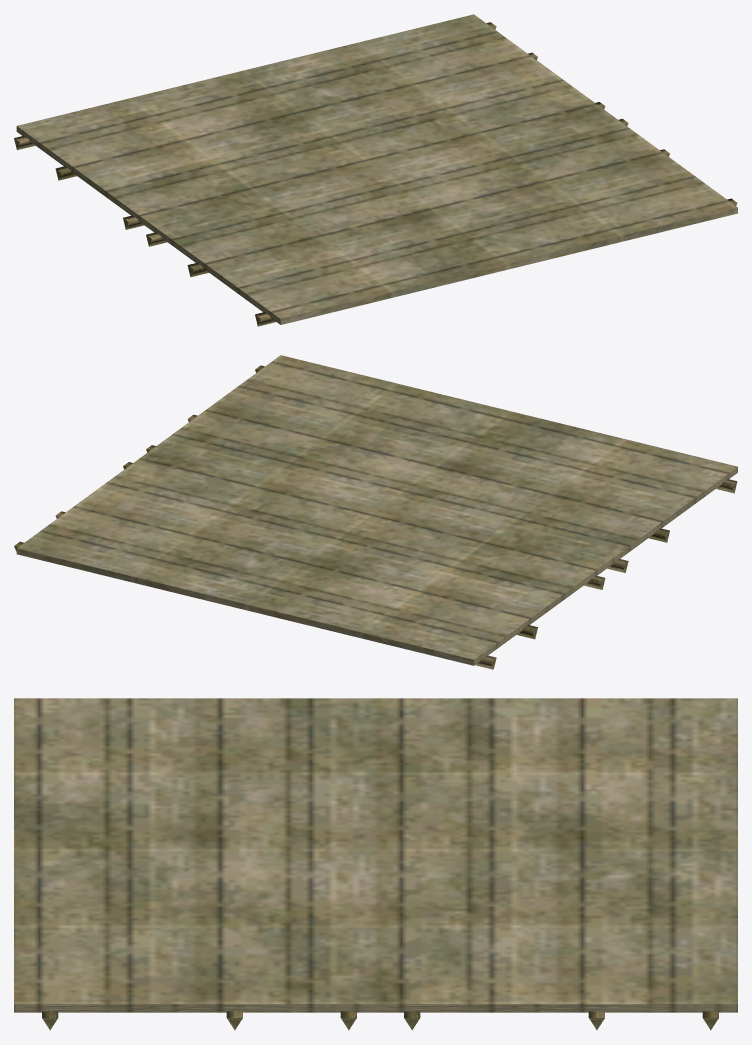
File: thm_endr_lakevillage_lake_hut_pc1_l3.fbx
The picture shows the model from 3 angles, top to bottom: view 1: azimuth 30°, elevation 25°; view 2: azimuth 150°, elevation 25°; view 3: azimuth 270°, elevation 25°; orthographic projection. The views are drawn at different scales.
Visible parts, largest first — view 1: mesh_node; view 2: mesh_node; view 3: mesh_node.
Part boxes in pixels (left/top/right/bottom): mesh_node: left=14, top=14, right=737, bottom=326; mesh_node: left=14, top=355, right=737, bottom=669; mesh_node: left=14, top=698, right=737, bottom=1030.
Bounding box in the file's own units: 16.68 × 0.4955 × 16.
